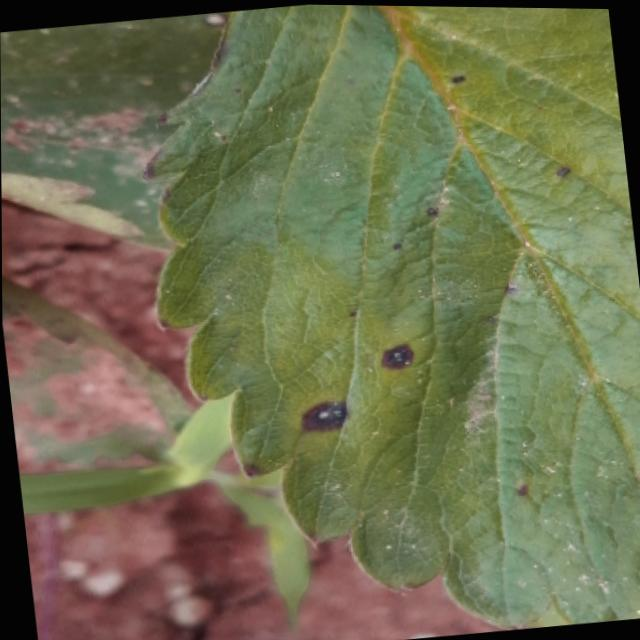Leaf Spot: (141, 4, 640, 625), (0, 10, 233, 254)
